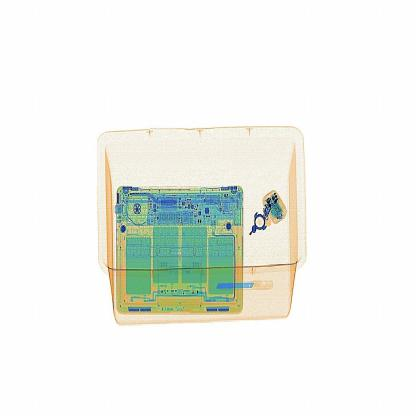pliers: (205, 273, 275, 300)
